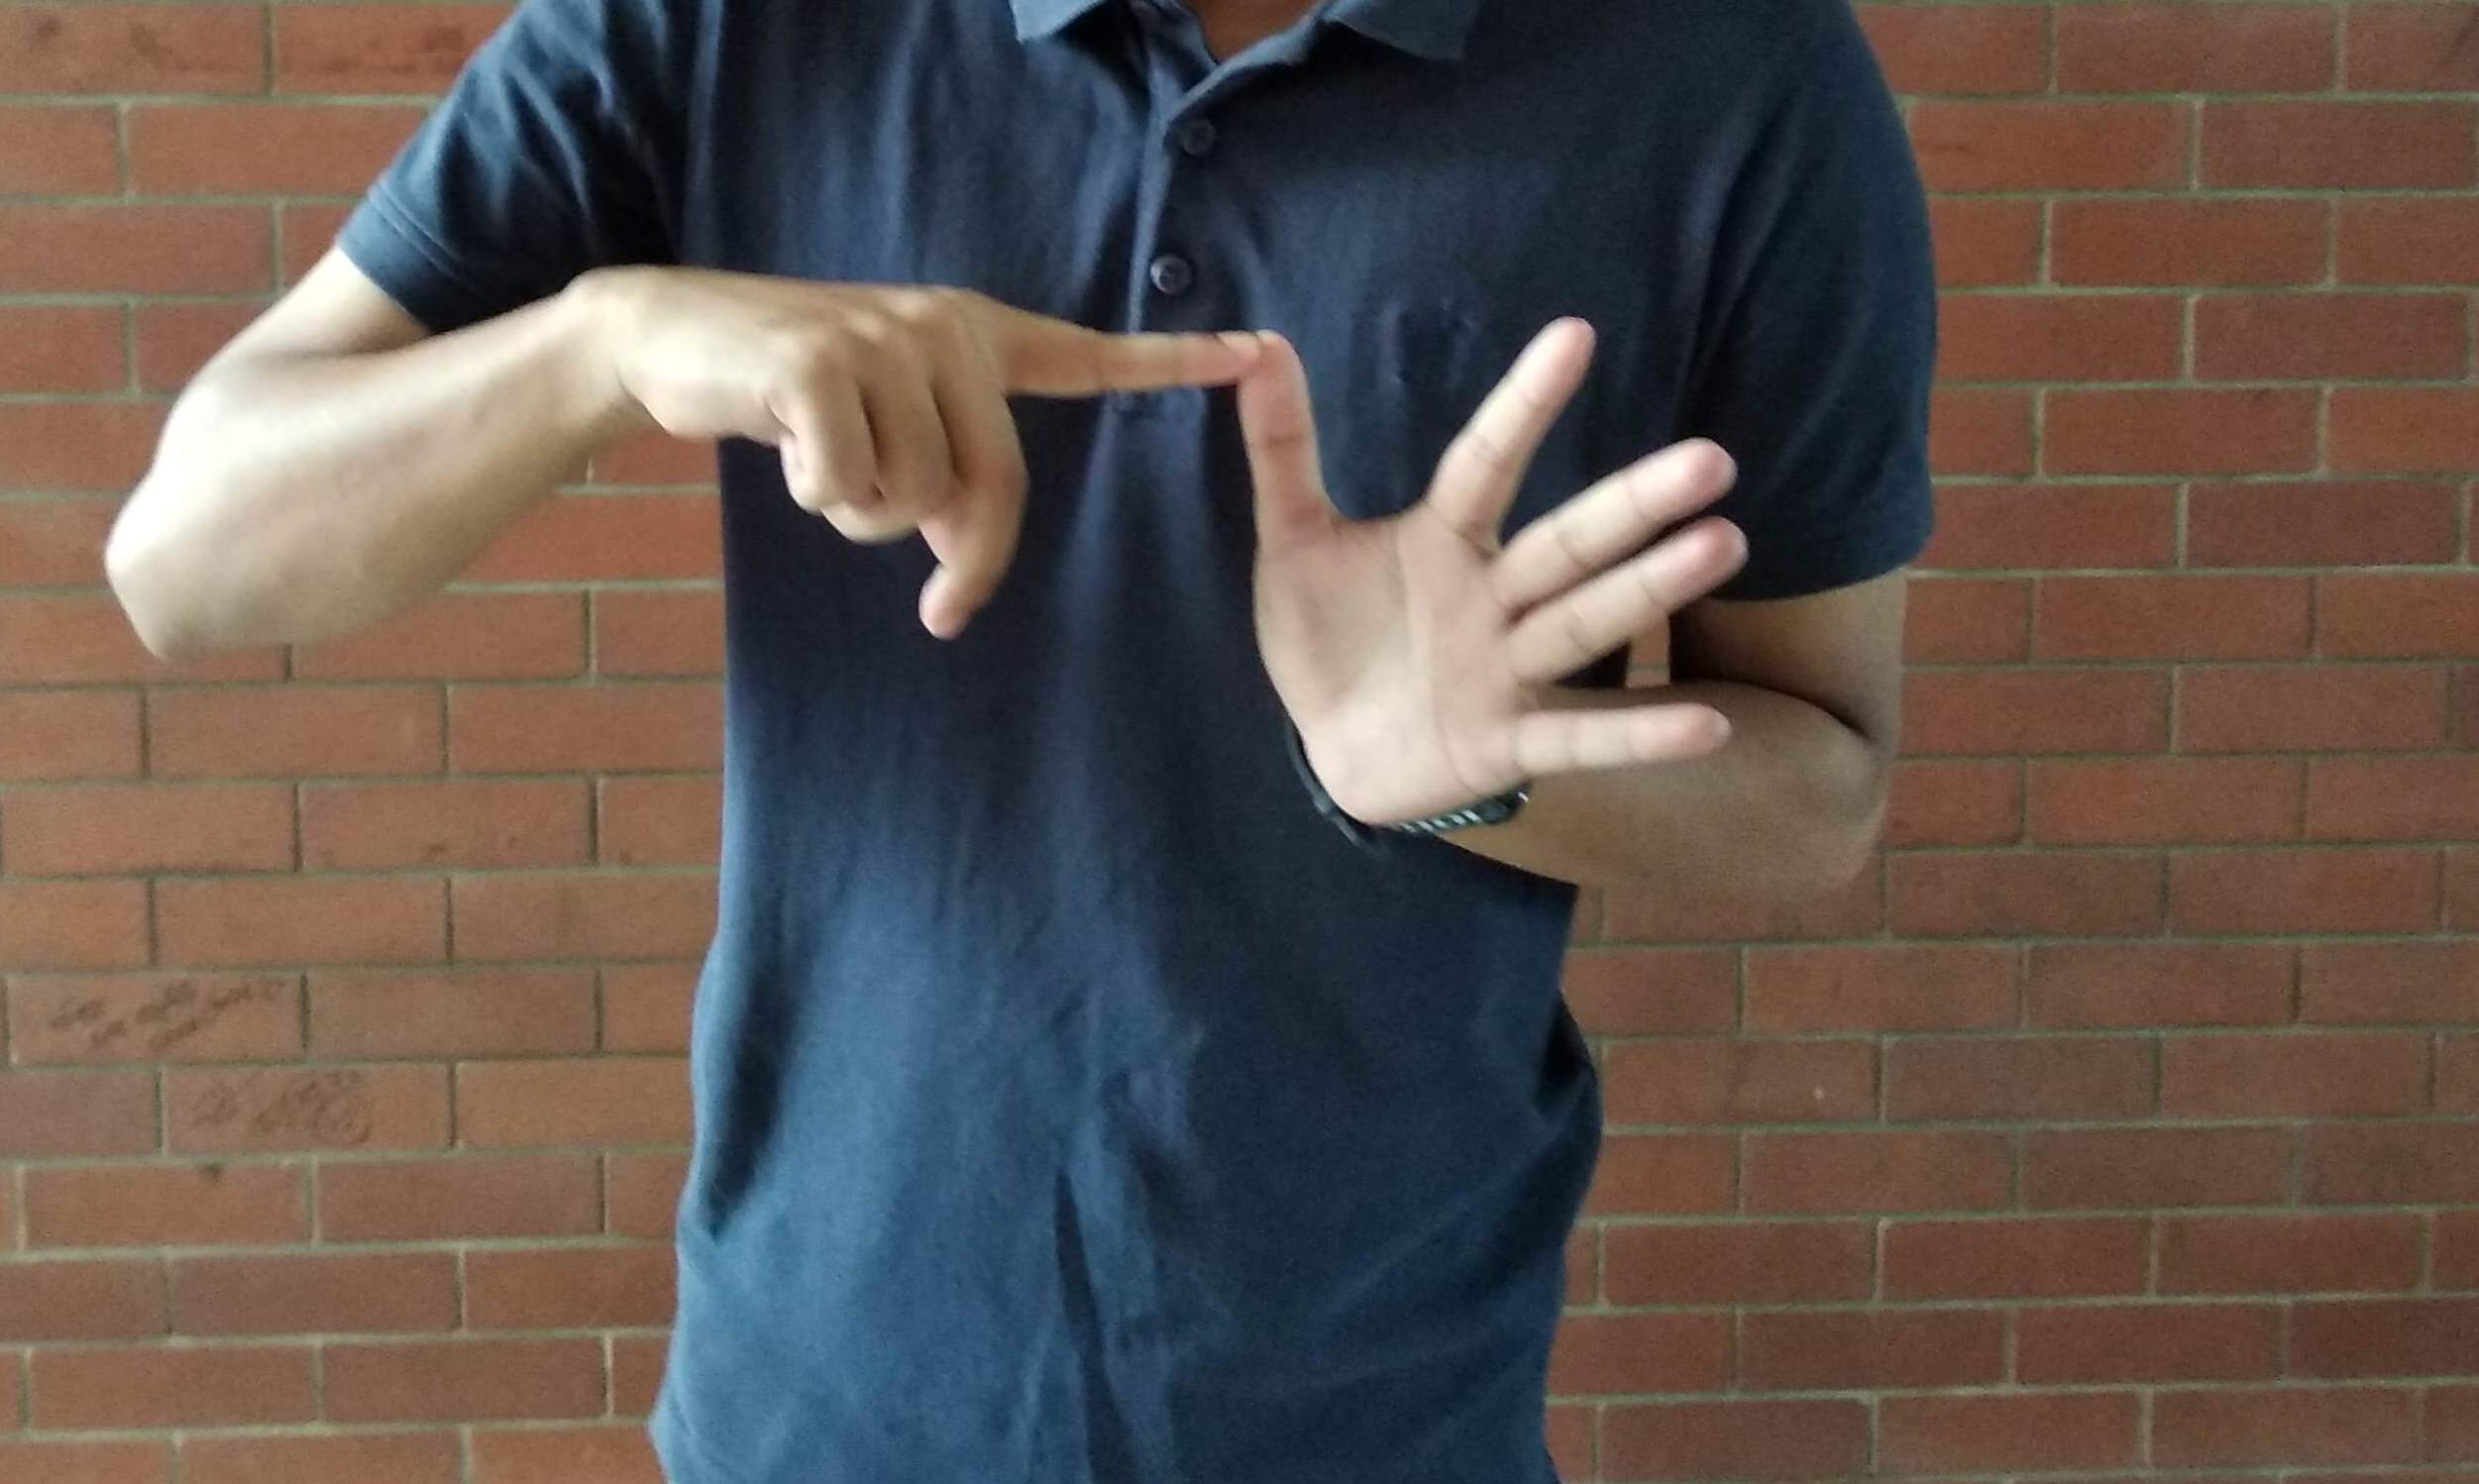a: (594, 237, 1735, 836)
